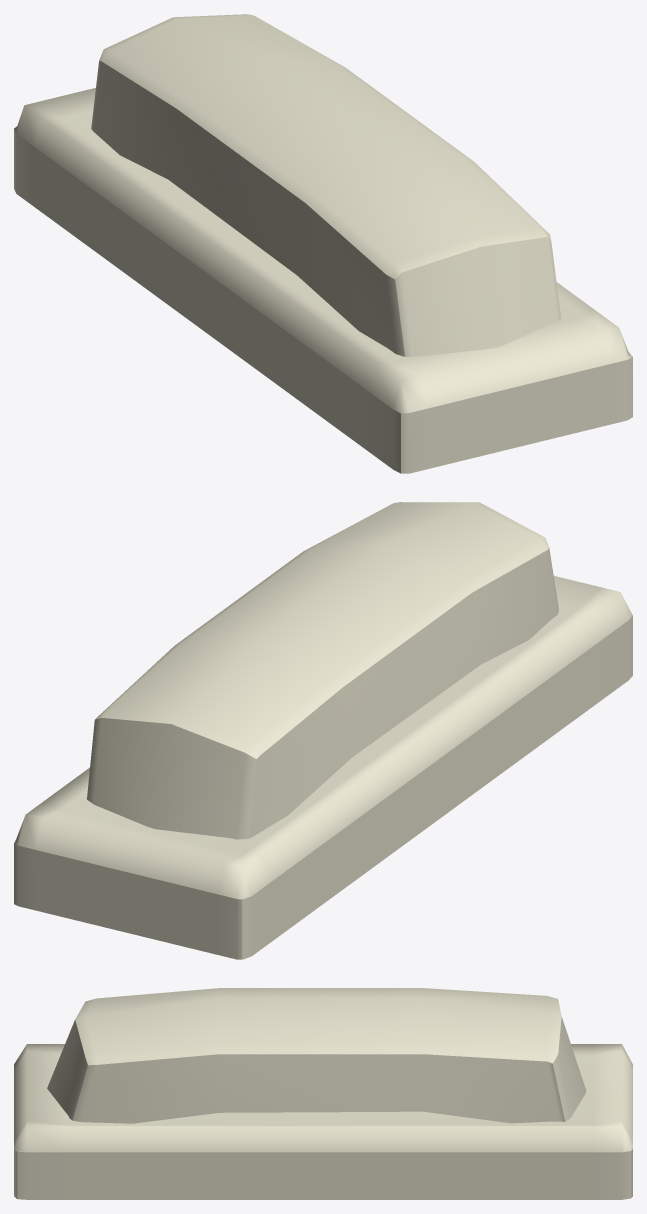
File: Phone 1.fbx
The picture shows the model from 3 angles, top to bottom: view 1: azimuth 30°, elevation 25°; view 2: azimuth 150°, elevation 25°; view 3: azimuth 270°, elevation 25°; orthographic projection. The views are drawn at different scales.
Parts seen in each view (by area): view 1: pCube2, pCube3; view 2: pCube2, pCube3; view 3: pCube2, pCube3.
Part boxes in pixels (box(x1,y1,x2,y2)): pCube2: box(91, 14, 561, 356); pCube3: box(14, 88, 632, 473); pCube2: box(87, 502, 558, 839); pCube3: box(14, 576, 632, 959); pCube2: box(47, 988, 586, 1123); pCube3: box(14, 1044, 632, 1199).
Bounding box in the file's own units: 0.1037 × 0.0834 × 0.2991.
